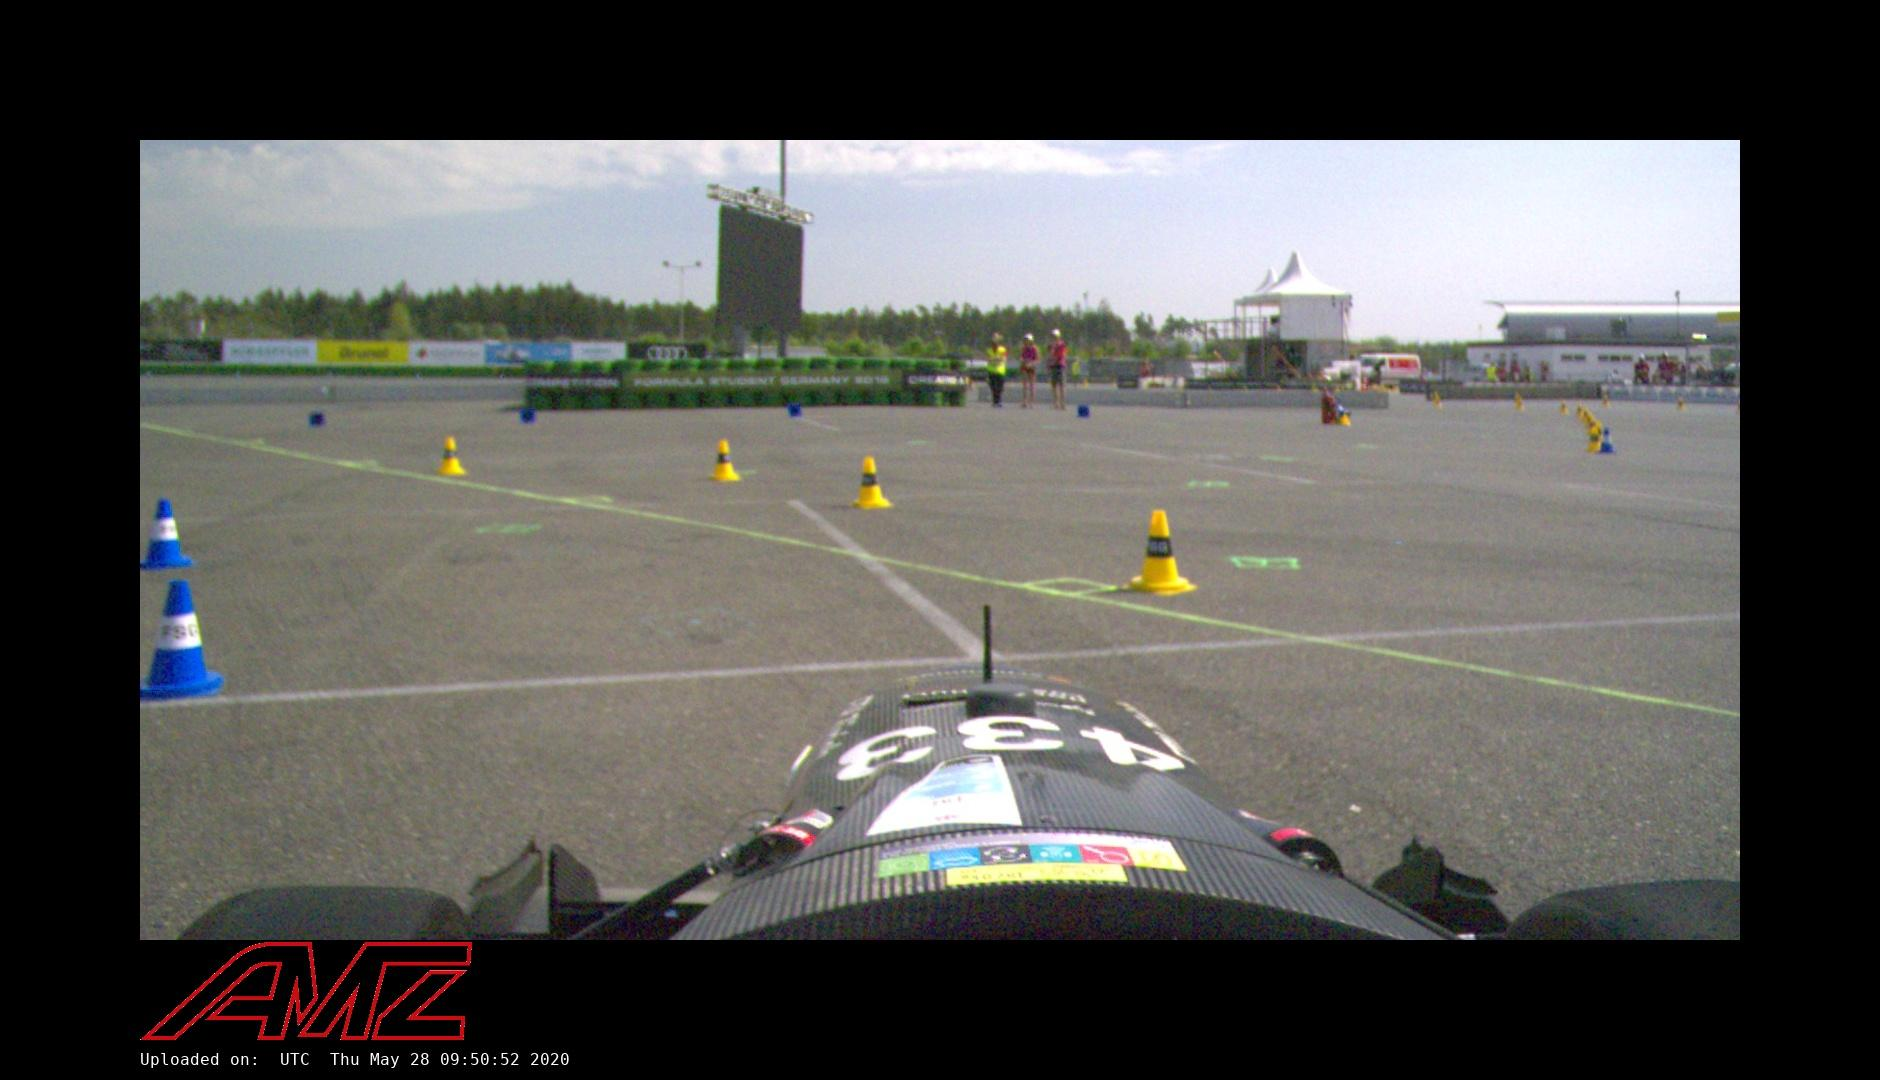blue_cone: (141, 578, 224, 703), (141, 498, 198, 569), (1598, 428, 1616, 454), (309, 412, 326, 427), (520, 408, 535, 424), (788, 404, 802, 417), (1077, 405, 1090, 418)
yellow_cone: (1129, 510, 1189, 593), (853, 456, 892, 508), (709, 439, 741, 481), (436, 436, 466, 476), (1585, 426, 1602, 452), (1575, 403, 1584, 417), (1560, 400, 1569, 414), (1677, 396, 1685, 410), (1602, 395, 1610, 407)
